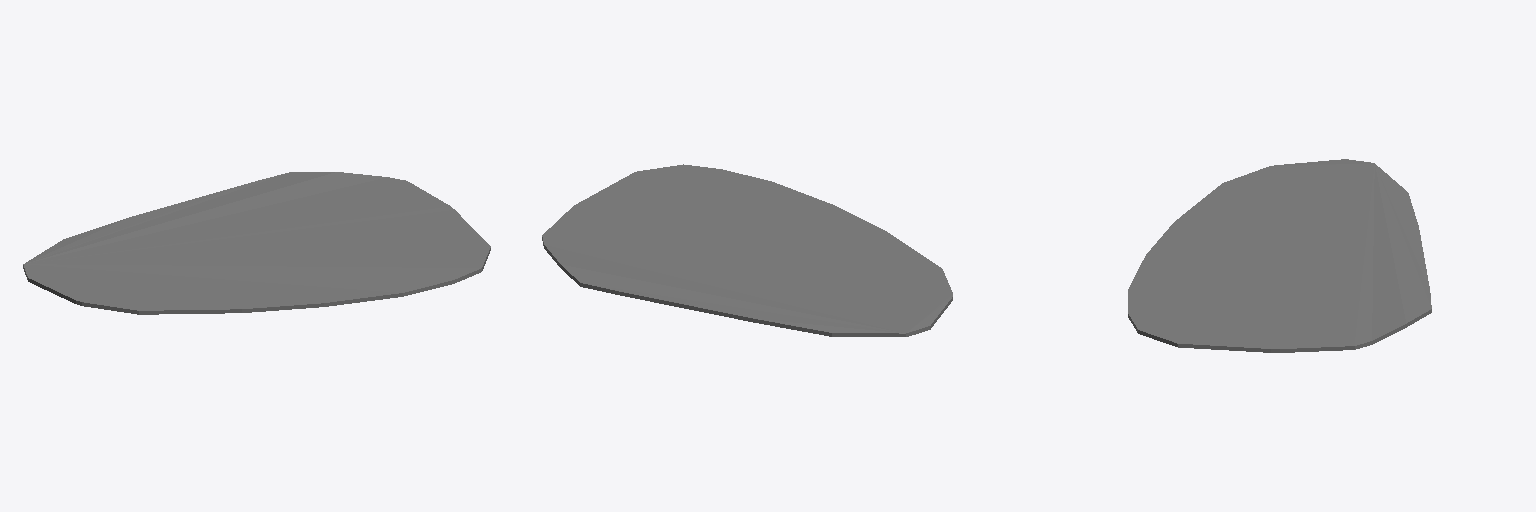
The model's file is mirror.obj.
3 views of the same model, side by side, from view 1: azimuth 30°, elevation 25°; view 2: azimuth 150°, elevation 25°; view 3: azimuth 270°, elevation 25° (orthographic).
Parts seen in each view (by area): view 1: door_lf_ok; view 2: door_lf_ok; view 3: door_lf_ok.
Boxes of the visible parts, <box> form: door_lf_ok: <box>23,172,490,314</box>; door_lf_ok: <box>542,164,952,336</box>; door_lf_ok: <box>1128,159,1431,352</box>.
Bounding box in the file's own units: 3.67 × 0.0492 × 2.47.